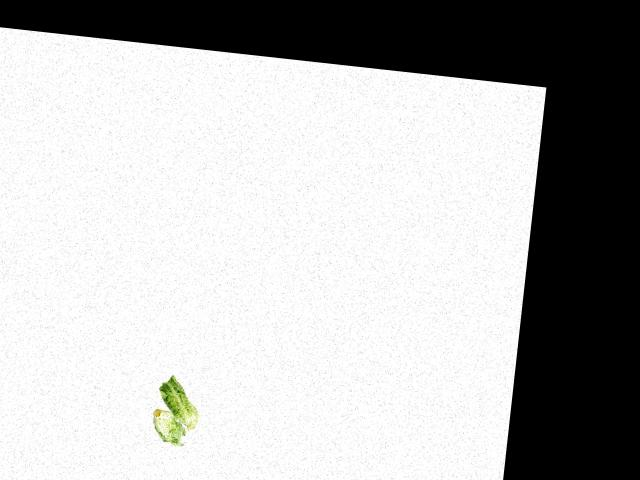lettuce: (144, 405, 189, 448)
